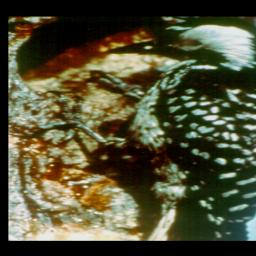Woodpecker: (26, 18, 256, 240)
